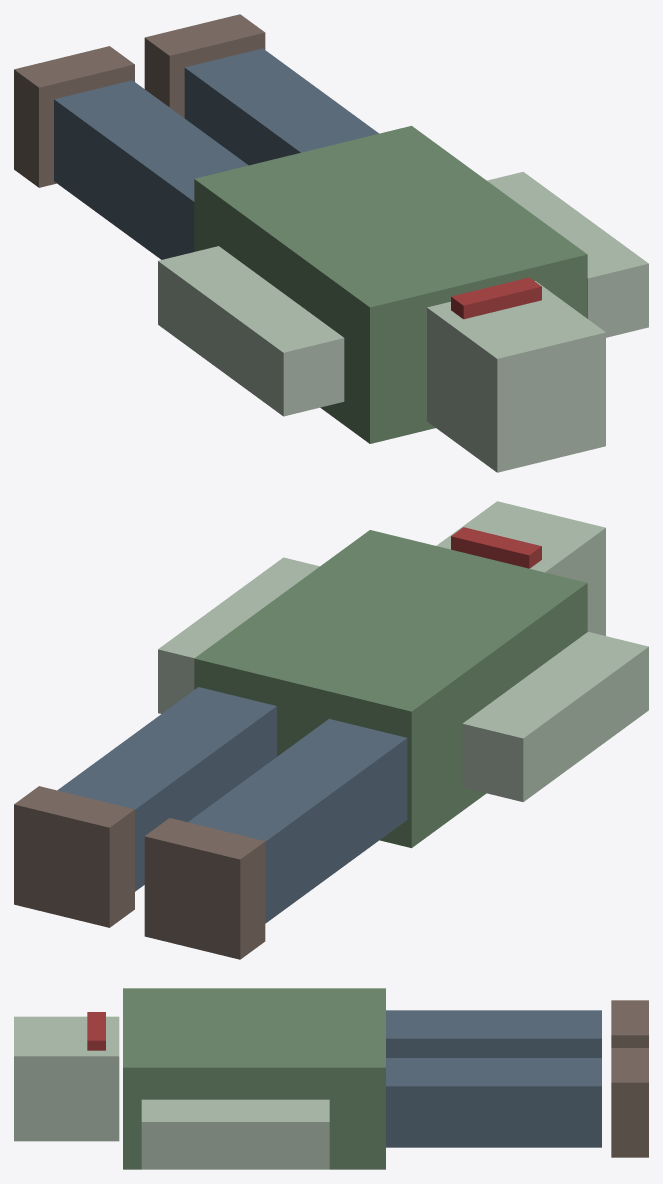
The model's file is zombie_lowpoly_static.glb.
3 renders of one model, top to bottom at view 1: azimuth 30°, elevation 25°; view 2: azimuth 150°, elevation 25°; view 3: azimuth 270°, elevation 25°, orthographic. The views are drawn at different scales.
Parts seen in each view (by area): view 1: torso, head, right_leg, right_arm, left_leg, left_arm, right_shoe, left_shoe, mouth_wound; view 2: torso, right_leg, right_arm, left_leg, right_shoe, left_shoe, head, left_arm, mouth_wound; view 3: torso, left_leg, left_arm, head, right_leg, left_shoe, right_shoe, mouth_wound.
Part boxes in pixels (box(x1,y1,x2,y2)): torso: box(194, 125, 587, 443); head: box(427, 281, 605, 472); right_leg: box(54, 80, 248, 259); right_arm: box(158, 246, 344, 416); left_leg: box(184, 48, 378, 165); left_arm: box(487, 171, 648, 337); right_shoe: box(14, 46, 134, 187); left_shoe: box(144, 14, 265, 117); mouth_wound: box(451, 277, 541, 319); torso: box(194, 530, 587, 848); right_leg: box(188, 719, 407, 923); right_arm: box(462, 632, 648, 802); left_leg: box(57, 687, 276, 891); right_shoe: box(144, 818, 265, 959); left_shoe: box(14, 786, 134, 927); head: box(436, 501, 605, 635); left_arm: box(158, 557, 319, 713); mouth_wound: box(451, 527, 541, 568); torso: box(123, 988, 385, 1169); left_leg: box(386, 1058, 601, 1147); left_arm: box(141, 1099, 329, 1169); head: box(14, 1016, 119, 1141); right_leg: box(386, 1010, 601, 1057); left_shoe: box(611, 1048, 648, 1157); right_shoe: box(611, 1000, 648, 1047); mouth_wound: box(87, 1012, 105, 1050).
Size of the model in its own units: 0.84 by 0.305 by 1.69.
